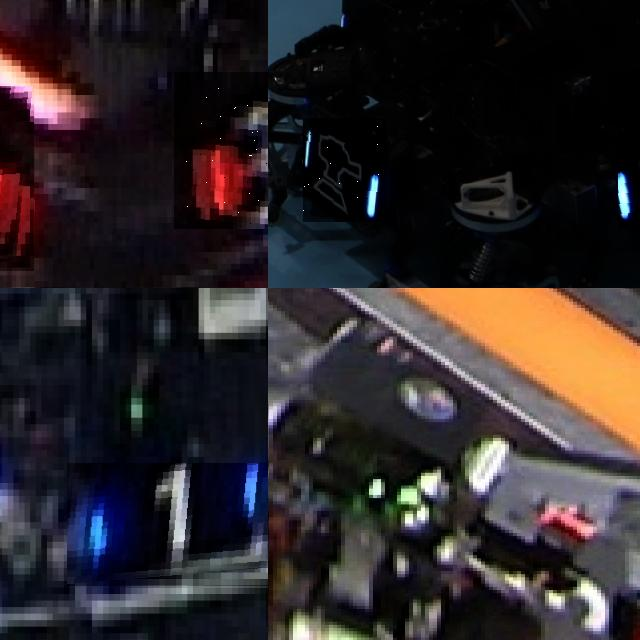B1: (66, 463, 268, 587)
Bs: (304, 118, 388, 222), (618, 125, 640, 229)
R3: (174, 72, 268, 229), (0, 86, 34, 272)
